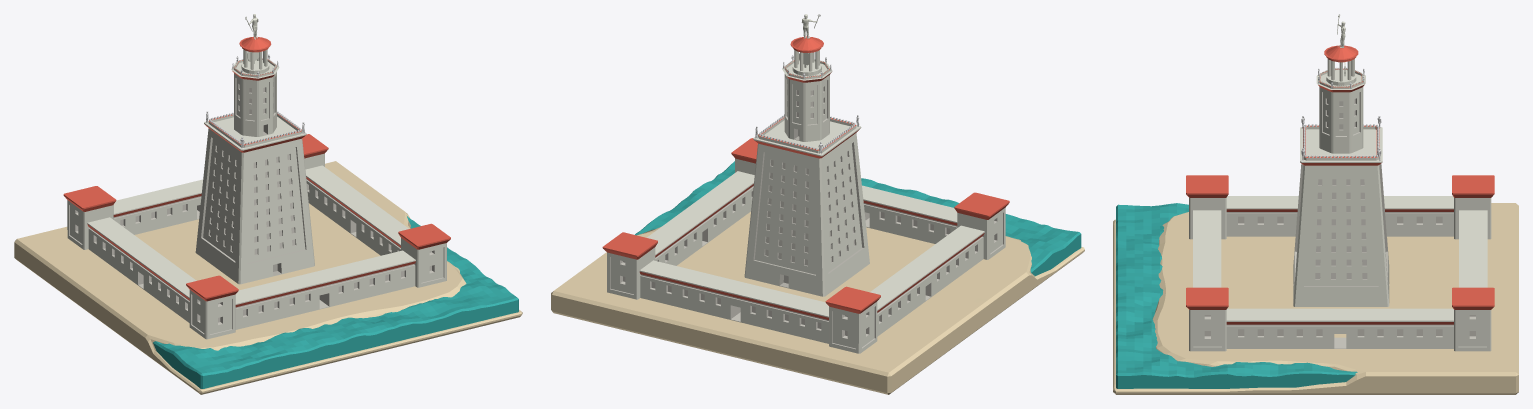
File: Lighthouse8.glb
3 renders of one model, left to right at view 1: azimuth 30°, elevation 25°; view 2: azimuth 150°, elevation 25°; view 3: azimuth 270°, elevation 25°, orthographic. The views are drawn at different scales.
Visible parts, largest first — view 1: BASE, fort, lighthouse, water 2 flat base BIGGER.001, fort orange, fort medium, lighthouse medium, lighthouse orange, nest; view 2: BASE, fort, lighthouse, fort orange, water 2 flat base BIGGER.001, fort medium, lighthouse medium, lighthouse orange, nest; view 3: BASE, fort, lighthouse, water 2 flat base BIGGER.001, fort orange, fort medium, lighthouse medium, lighthouse orange, nest, nest orange, Cylinder.001.
Part boxes in pixels (x1,y1,x2,y2): BASE: [14, 161, 522, 394]; fort: [67, 153, 446, 339]; lighthouse: [195, 59, 314, 284]; water 2 flat base BIGGER.001: [153, 216, 518, 388]; fort orange: [63, 134, 450, 307]; fort medium: [69, 179, 444, 334]; lighthouse medium: [201, 75, 306, 264]; lighthouse orange: [204, 59, 305, 152]; nest: [241, 49, 269, 74]; BASE: [551, 211, 1084, 394]; fort: [607, 158, 1005, 353]; lighthouse: [744, 60, 869, 296]; fort orange: [602, 138, 1009, 319]; water 2 flat base BIGGER.001: [635, 161, 1081, 276]; fort medium: [610, 186, 1003, 349]; lighthouse medium: [753, 77, 864, 275]; lighthouse orange: [754, 60, 859, 158]; nest: [792, 50, 821, 75]; BASE: [1113, 203, 1518, 394]; fort: [1189, 196, 1491, 351]; lighthouse: [1293, 69, 1389, 306]; water 2 flat base BIGGER.001: [1116, 203, 1357, 388]; fort orange: [1186, 175, 1494, 324]; fort medium: [1193, 212, 1486, 348]; lighthouse medium: [1294, 92, 1387, 286]; lighthouse orange: [1300, 68, 1381, 165]; nest: [1326, 59, 1356, 85]; nest orange: [1324, 45, 1358, 62]; Cylinder.001: [1303, 124, 1379, 157].
Size of the model in its own units: 8 by 6.3 by 8.
